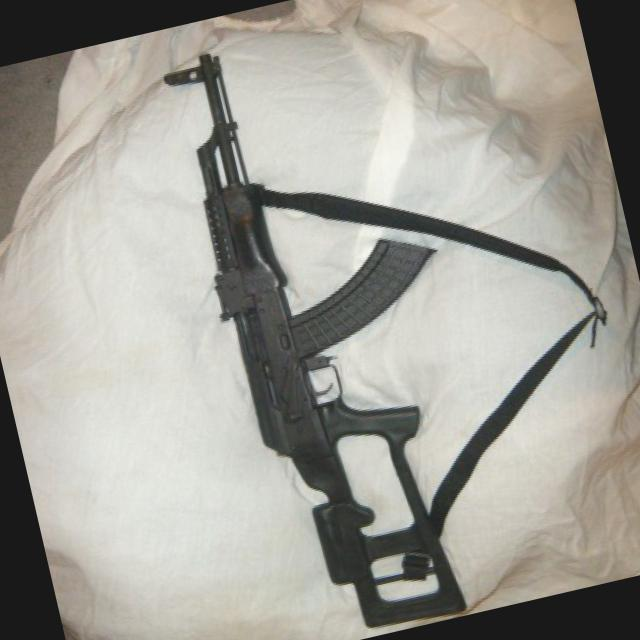long weapon: (148, 10, 518, 639)
